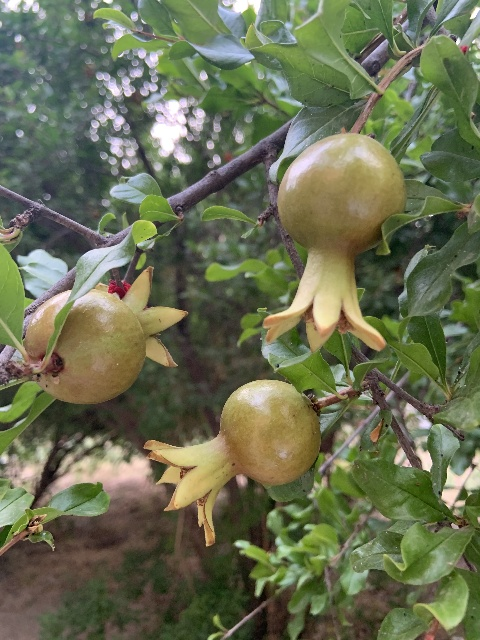early-fruit: (143, 379, 321, 546), (22, 263, 188, 404)
mid-growth: (262, 132, 407, 353)
